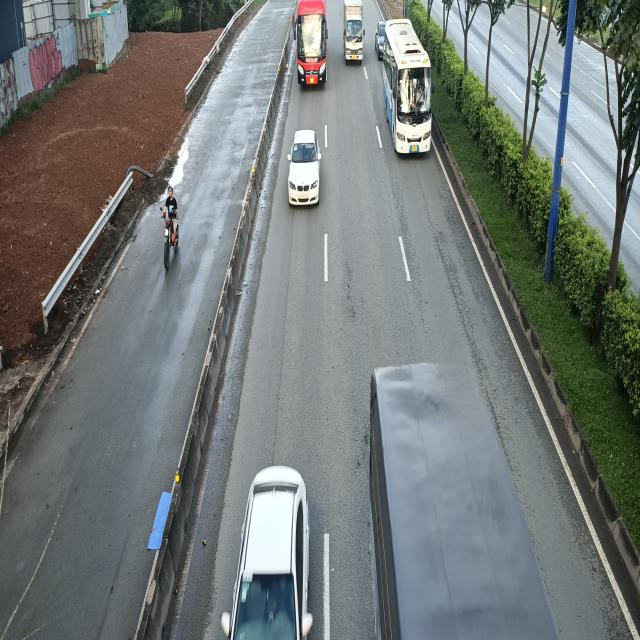car: (286, 129, 320, 207)
coach: (384, 16, 434, 156), (293, 0, 326, 89)
truck: (343, 1, 366, 66)
